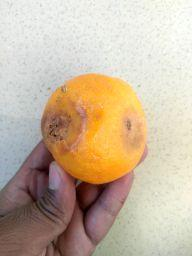Unripe: (39, 74, 145, 182)
